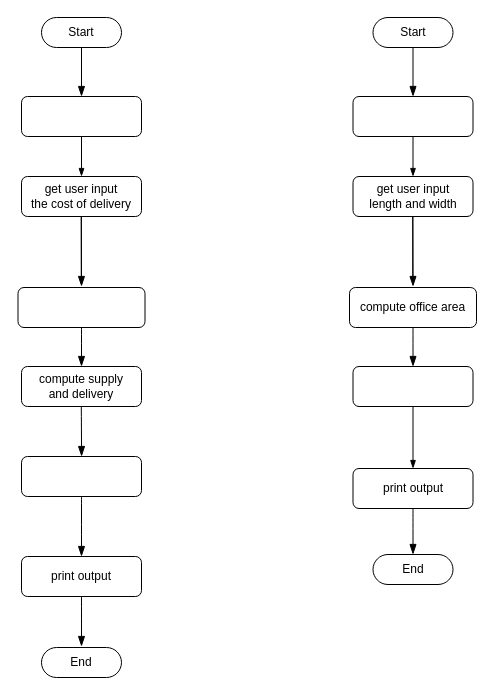
Some shapes in this 494 by 695 pixel diagram are drawn without their labels. The shapes that lost their labels are listed below. From the top down, each one's box as (x1, y1, x2, y2) in pixels, then its label:
(20, 96, 142, 136): get user input the cost of supply
(352, 96, 473, 136): indentify constance (conversion, cost)
(17, 286, 145, 328): get user input the usage of electricity
(352, 366, 473, 406): compute the cost of office are
(20, 456, 142, 496): add total
